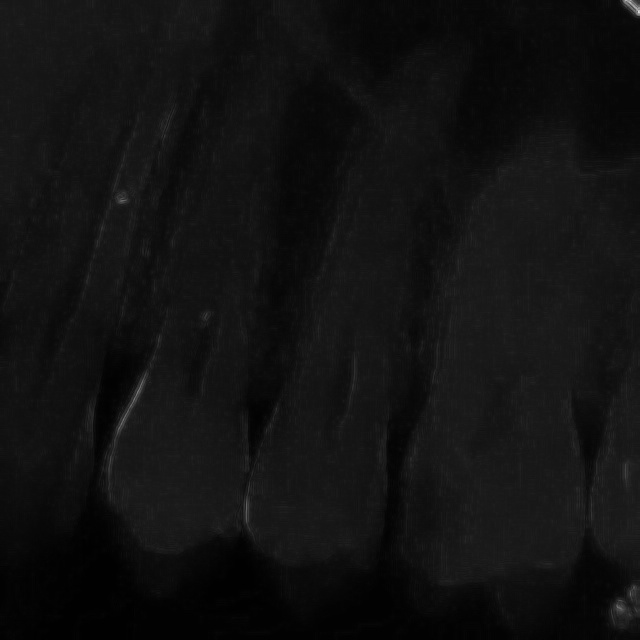cavity: (392, 51, 618, 620)
